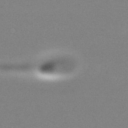normal: (1, 57, 37, 82)
